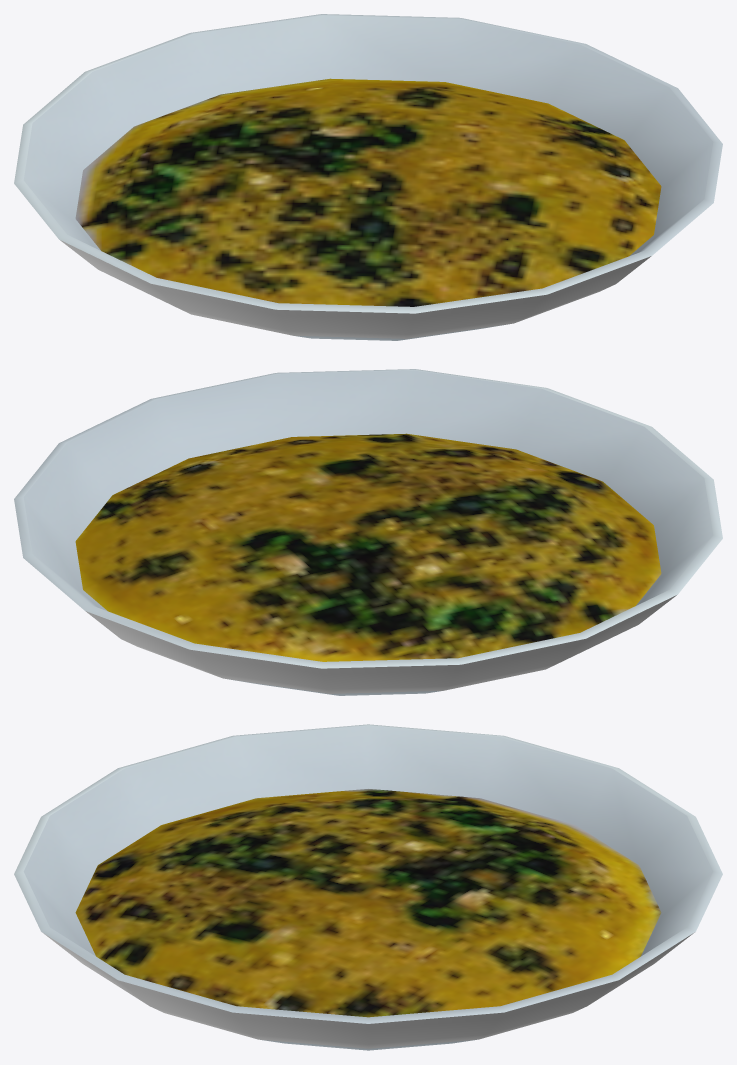
Rendered from prop_foodmenu24.fbx.
3 views of the same model, one above another, from view 1: azimuth 30°, elevation 25°; view 2: azimuth 150°, elevation 25°; view 3: azimuth 270°, elevation 25° (orthographic).
Visible parts, largest first — view 1: prop_foodmenu24; view 2: prop_foodmenu24; view 3: prop_foodmenu24.
Part boxes in pixels (x1=…): prop_foodmenu24: x1=14, y1=14, x2=722, y2=340; prop_foodmenu24: x1=14, y1=369, x2=722, y2=695; prop_foodmenu24: x1=14, y1=724, x2=722, y2=1050.
Size of the model in its own units: 0.2933 by 0.0482 by 0.2933.
